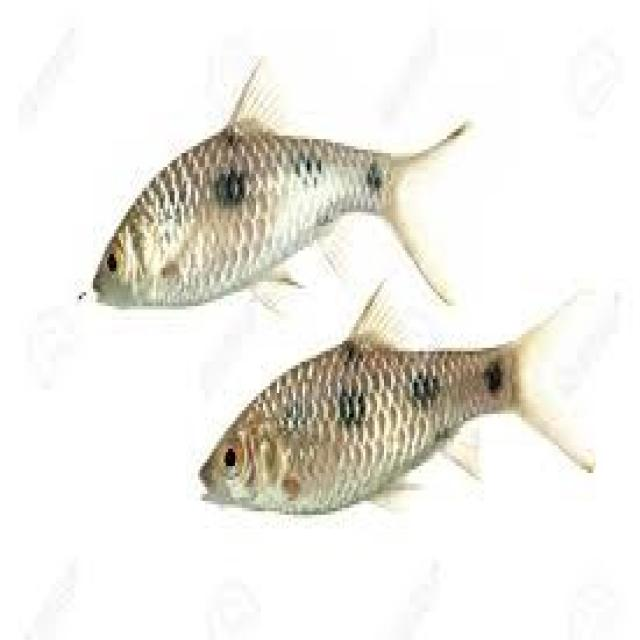Black-Spotted-Barb: (157, 313, 601, 522), (70, 88, 502, 295)
